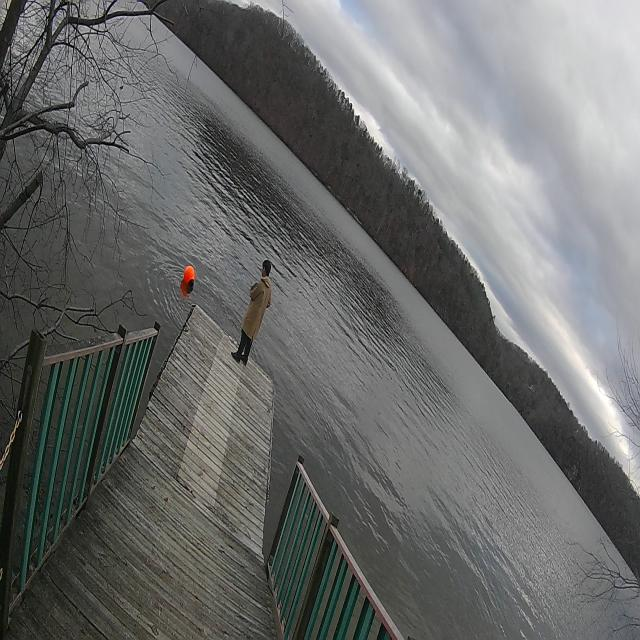Buoy: (180, 263, 200, 296)
